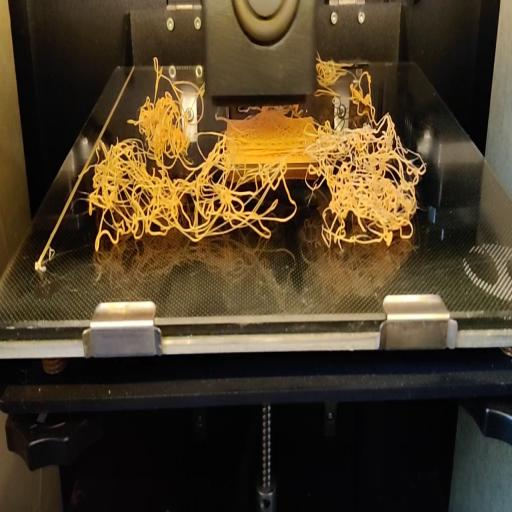spaghetti: (80, 102, 428, 256), (142, 49, 207, 102), (312, 50, 373, 104)
